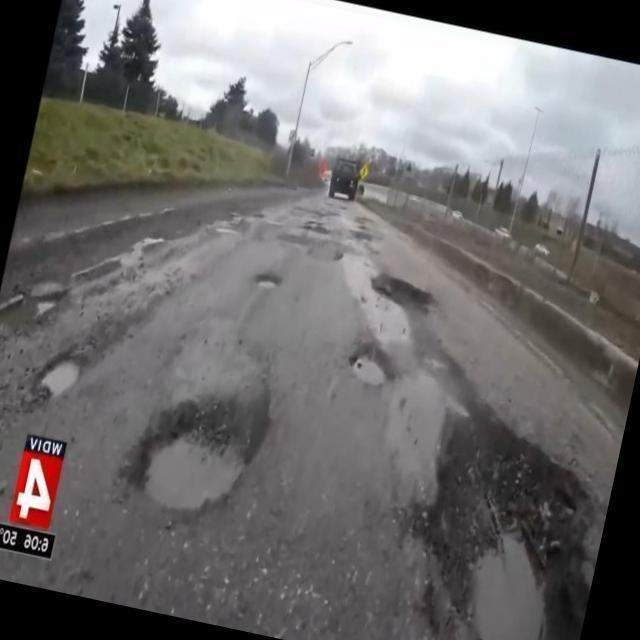Pothole: (438, 429, 580, 640), (133, 413, 253, 518), (371, 280, 427, 321), (37, 354, 78, 404), (348, 349, 389, 387)
